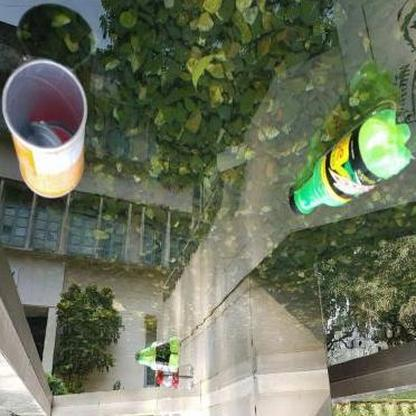plastic bottle: (289, 108, 410, 216), (3, 59, 87, 198), (136, 350, 179, 371), (153, 375, 196, 391)
